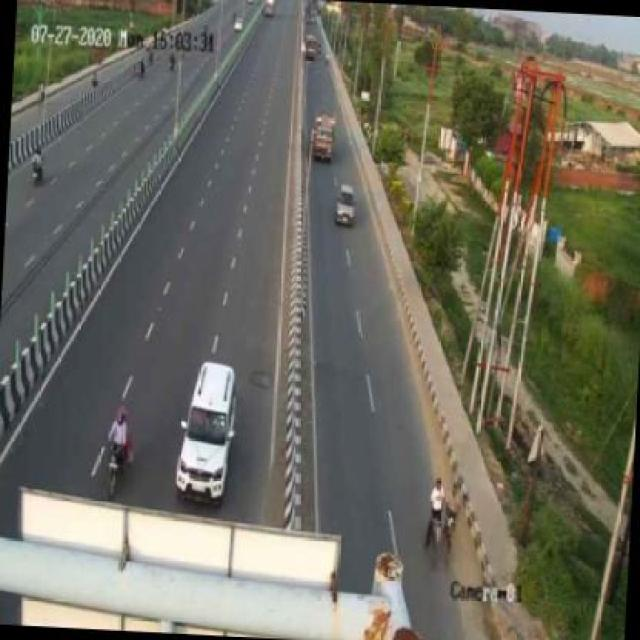car: (172, 349, 240, 508), (334, 183, 357, 226)
